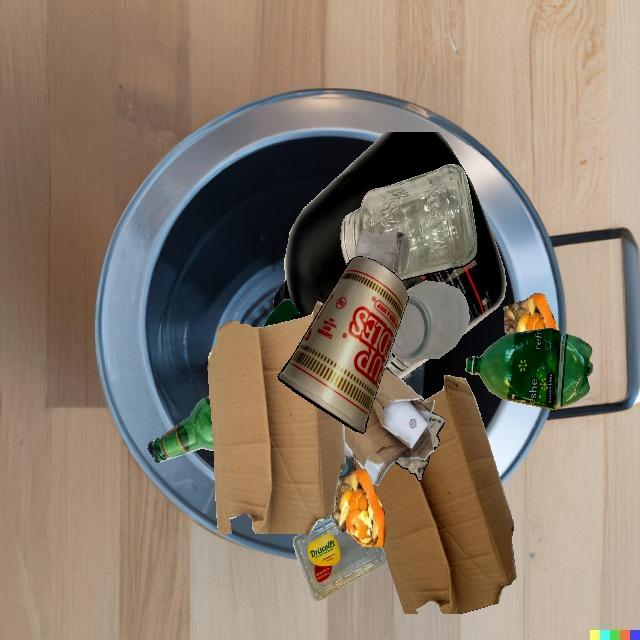biowaste: (331, 469, 386, 547), (503, 293, 559, 335)
cardboard: (371, 375, 516, 614), (207, 301, 345, 534), (344, 365, 434, 486)
glass: (340, 164, 478, 281), (391, 281, 469, 363), (147, 395, 214, 463), (355, 229, 410, 276)
paper: (406, 384, 432, 458), (394, 453, 430, 481), (384, 348, 392, 368)
plastic: (273, 132, 464, 321), (401, 172, 506, 336), (465, 328, 593, 410), (289, 281, 425, 358), (293, 515, 387, 601), (263, 299, 299, 327), (317, 520, 322, 523)
trash: (278, 256, 408, 433)
